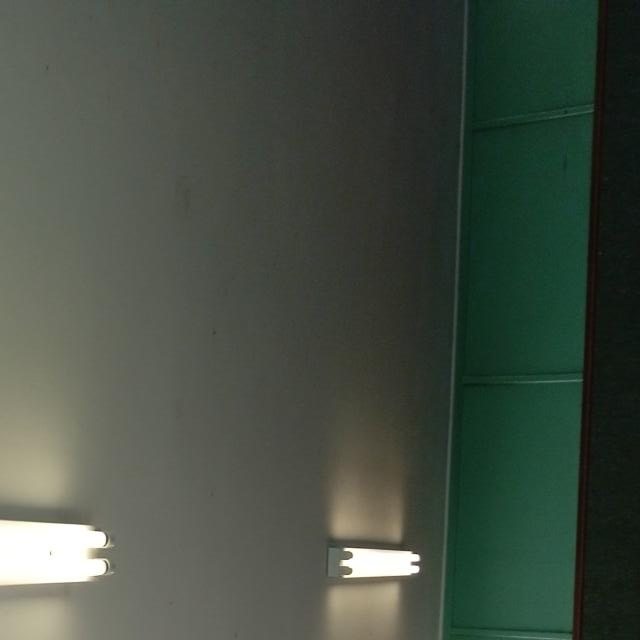fluorescent tube: (0, 449, 135, 640), (303, 517, 431, 599)
